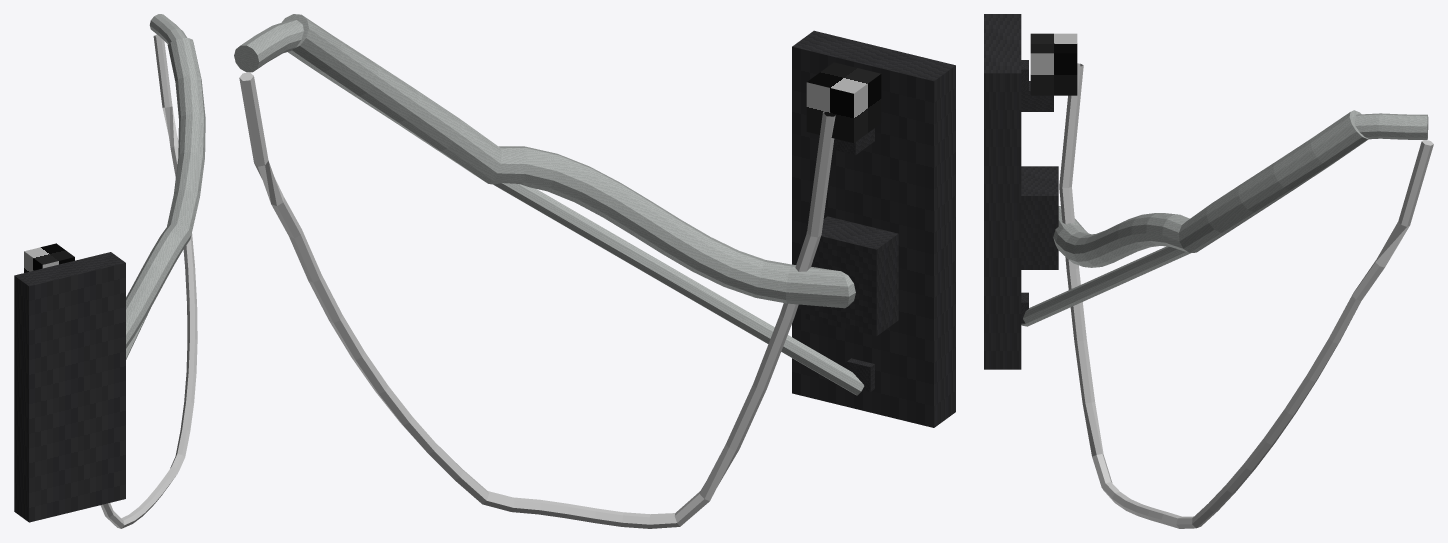
Rendered from arm_1_right_wired.obj.
The picture shows the model from 3 angles, left to right: view 1: azimuth 30°, elevation 25°; view 2: azimuth 150°, elevation 25°; view 3: azimuth 270°, elevation 25°; orthographic projection. The views are drawn at different scales.
Parts seen in each view (by area): view 1: pole_light_mount_1_right_wired; view 2: pole_light_mount_1_right_wired; view 3: pole_light_mount_1_right_wired.
Boxes of the visible parts, x1=… form: pole_light_mount_1_right_wired: x1=14, y1=14, x2=205, y2=528; pole_light_mount_1_right_wired: x1=234, y1=14, x2=955, y2=528; pole_light_mount_1_right_wired: x1=984, y1=14, x2=1433, y2=528.
Size of the model in its own units: 1.22 by 1.41 by 1.2.
